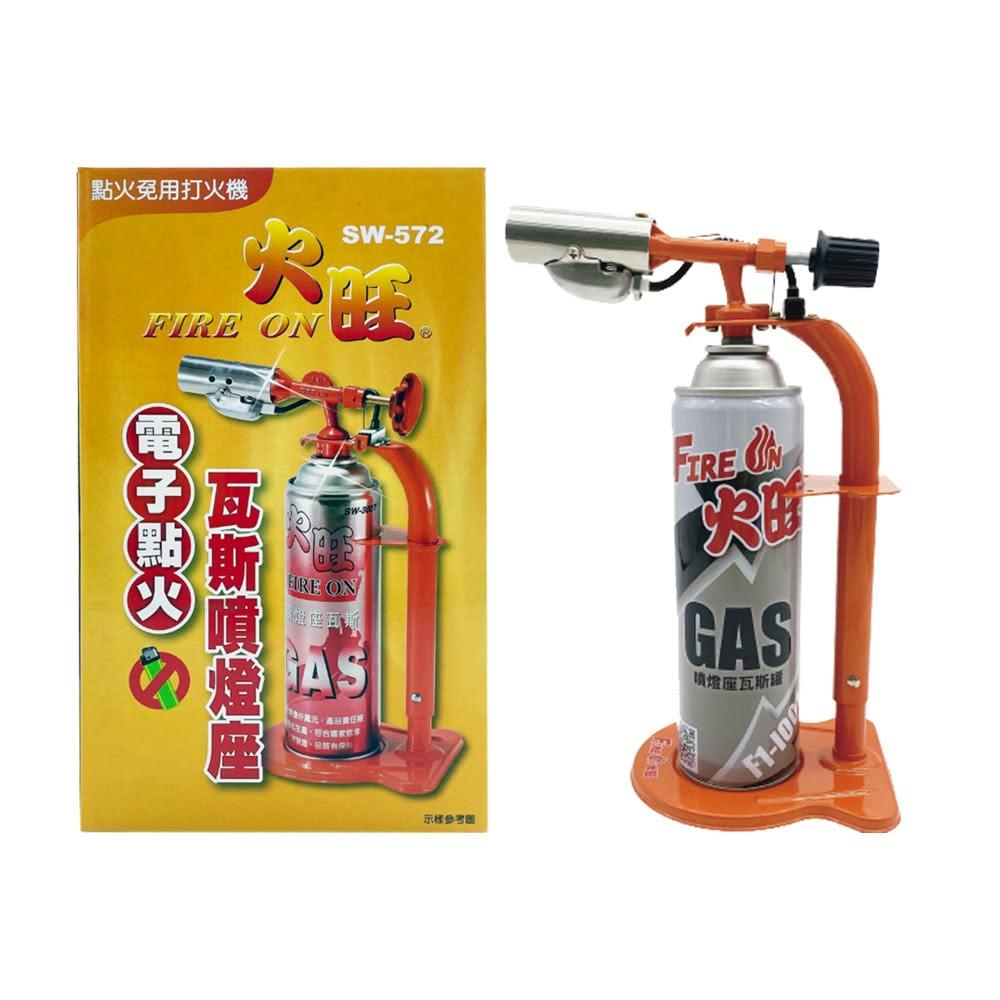gastorch: (499, 200, 917, 832), (177, 352, 481, 793)
